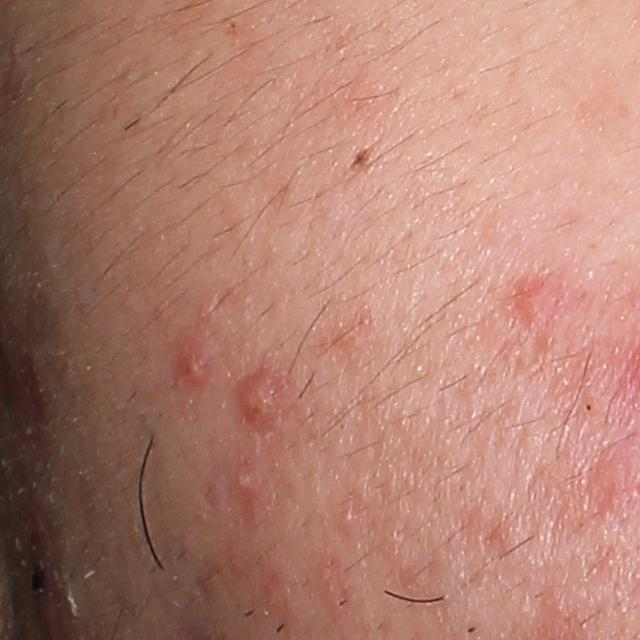papule: (238, 376, 281, 434), (514, 279, 551, 318)
